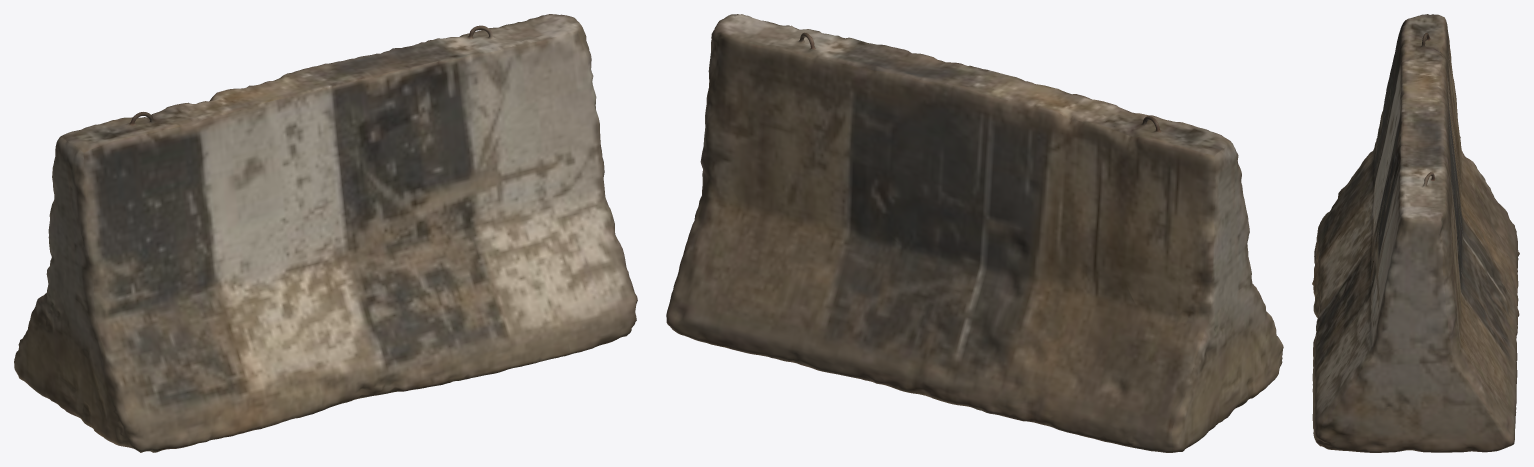
The model's file is concrete_road_barrier.gltf.
The picture shows the model from 3 angles, left to right: view 1: azimuth 30°, elevation 25°; view 2: azimuth 150°, elevation 25°; view 3: azimuth 270°, elevation 25°; orthographic projection. The views are drawn at different scales.
Parts seen in each view (by area): view 1: concrete_road_barrier; view 2: concrete_road_barrier; view 3: concrete_road_barrier.
Part boxes in pixels (x1=…): concrete_road_barrier: x1=14, y1=14, x2=637, y2=452; concrete_road_barrier: x1=666, y1=14, x2=1283, y2=452; concrete_road_barrier: x1=1312, y1=14, x2=1519, y2=452.
Size of the model in its own units: 1.55 by 0.8311 by 0.6388.
1 material, 1 textured.
